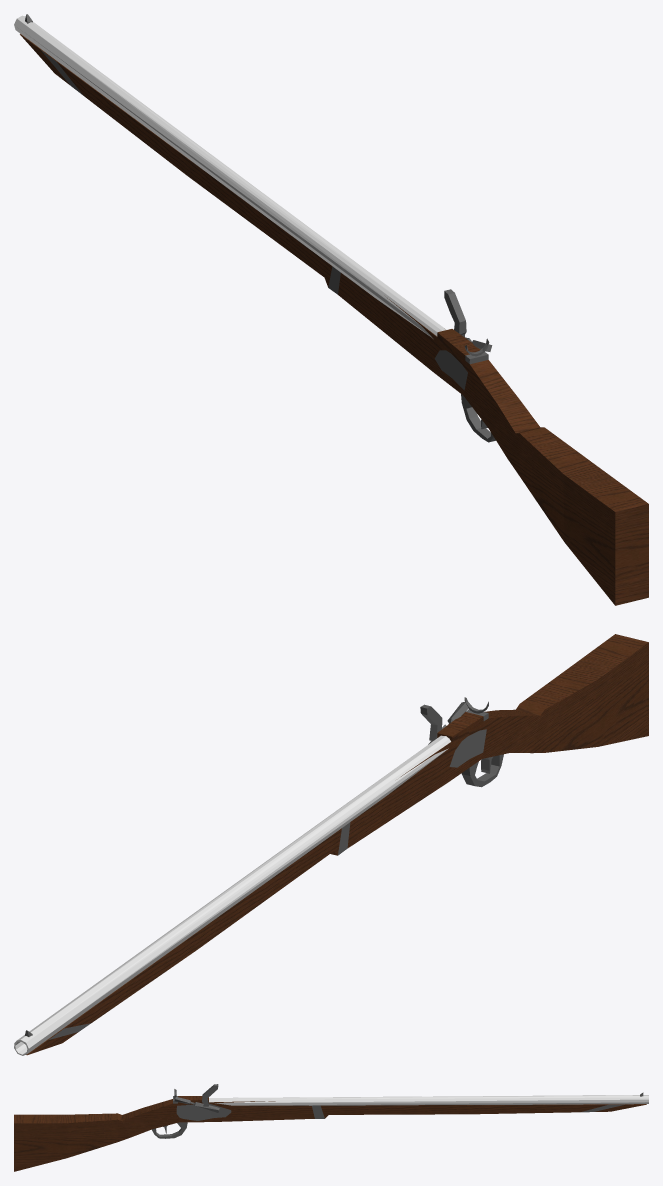
The model's file is VarkGun.glb.
The picture shows the model from 3 angles, top to bottom: view 1: azimuth 30°, elevation 25°; view 2: azimuth 150°, elevation 25°; view 3: azimuth 270°, elevation 25°; orthographic projection. The views are drawn at different scales.
Parts seen in each view (by area): view 1: Body & Barrel; view 2: Body & Barrel, Lock; view 3: Body & Barrel, Lock.
Part boxes in pixels (x1,y1,x2,y2): Body & Barrel: (14, 14, 648, 605); Body & Barrel: (14, 634, 648, 1055); Lock: (420, 702, 468, 744); Body & Barrel: (14, 1089, 648, 1171); Lock: (174, 1084, 219, 1112).
Bounding box in the file's own units: 0.0344 × 0.161 × 1.08.
3 materials, 1 textured.
